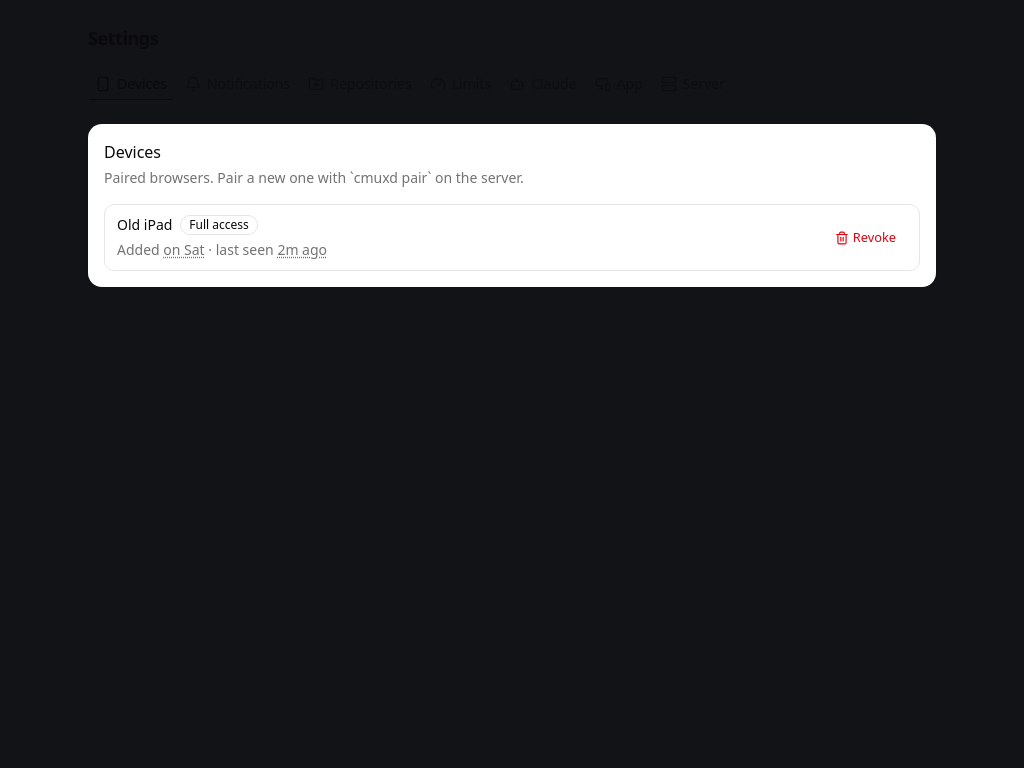
Test case: Settings devices › shows a failed revoke inline
Click the button with aria-label "Revoke Old iPad" at (865, 238), box x1=824 y1=224 x2=907 y2=252
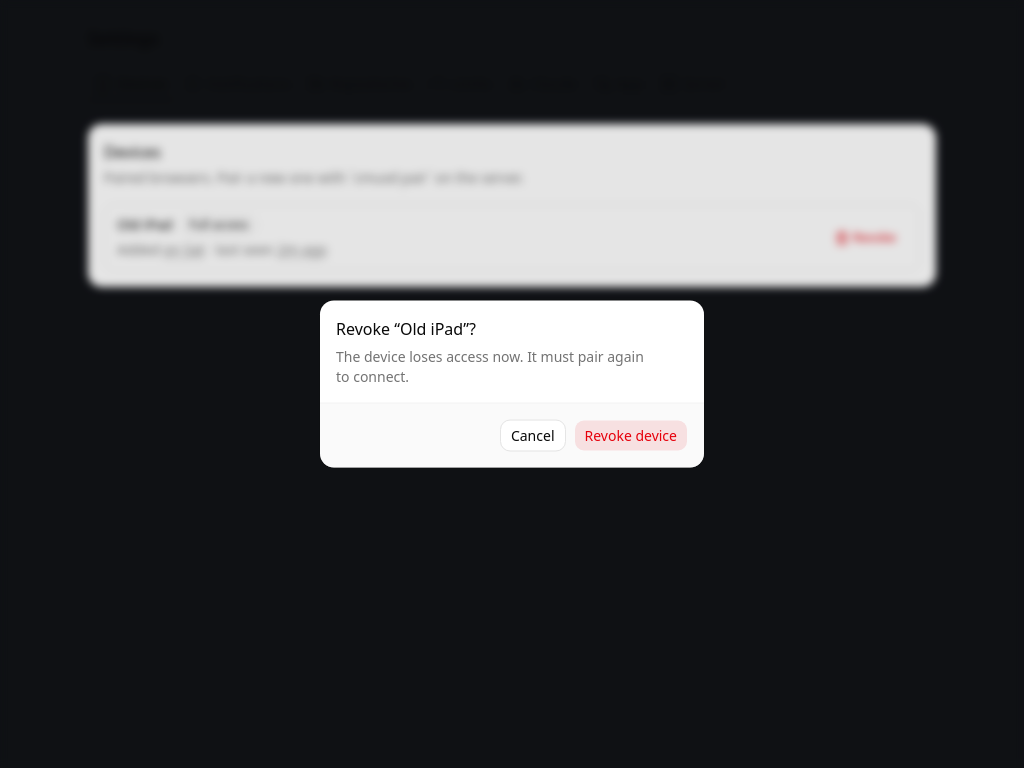
Click the button "Revoke device" at (631, 436), box x1=574 y1=420 x2=688 y2=452
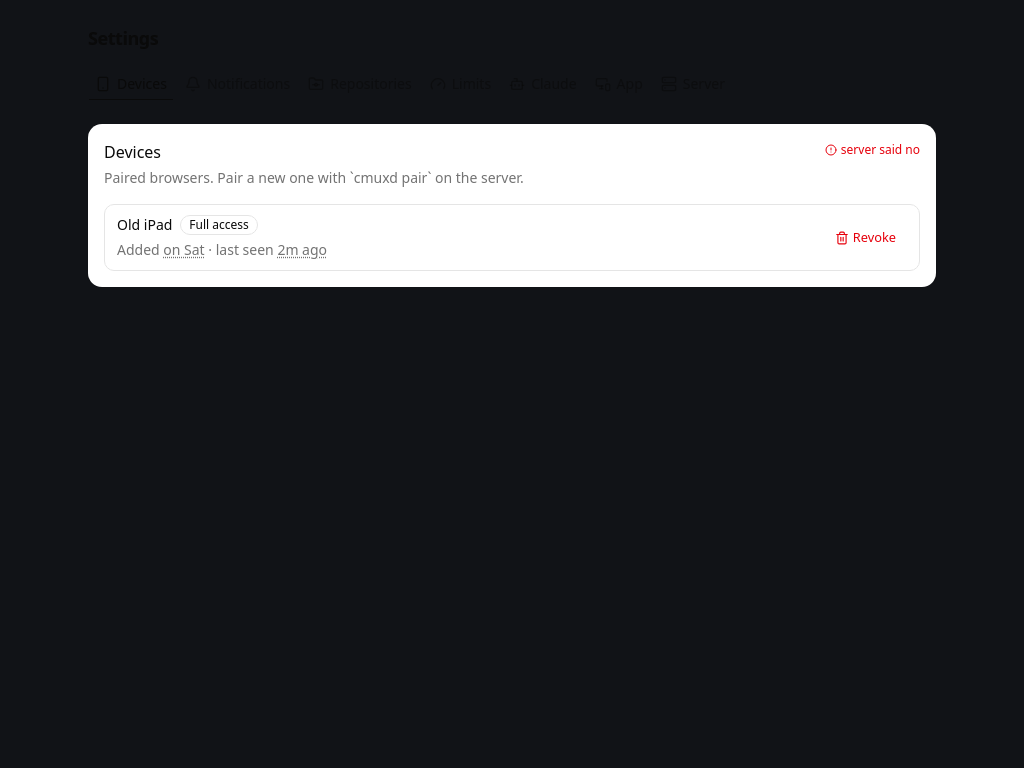
Expected: the text "server said no" is shown, x1=825 y1=142 x2=920 y2=158
